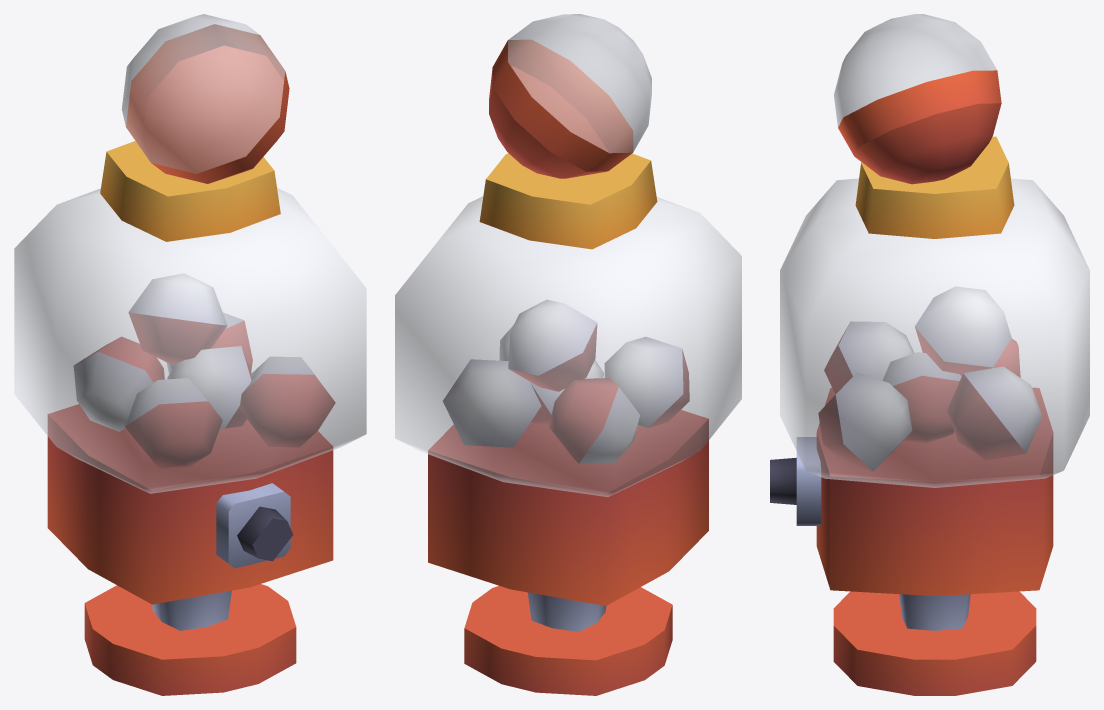
The model's file is gacha-machine.glb.
3 renders of one model, left to right at view 1: azimuth 30°, elevation 25°; view 2: azimuth 150°, elevation 25°; view 3: azimuth 270°, elevation 25°, orthographic.
Visible parts, largest first — view 1: gacha-machine; view 2: gacha-machine; view 3: gacha-machine.
Part boxes in pixels (x1,y1,x2,y2): gacha-machine: (14,14,366,695); gacha-machine: (395,14,741,695); gacha-machine: (770,14,1089,695).
Size of the model in its own units: 0.4337 by 0.9772 by 0.4476.
2 materials, 1 textured.
